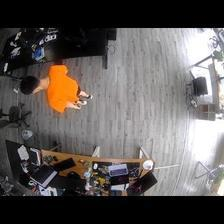normal: (19, 63, 92, 114)
